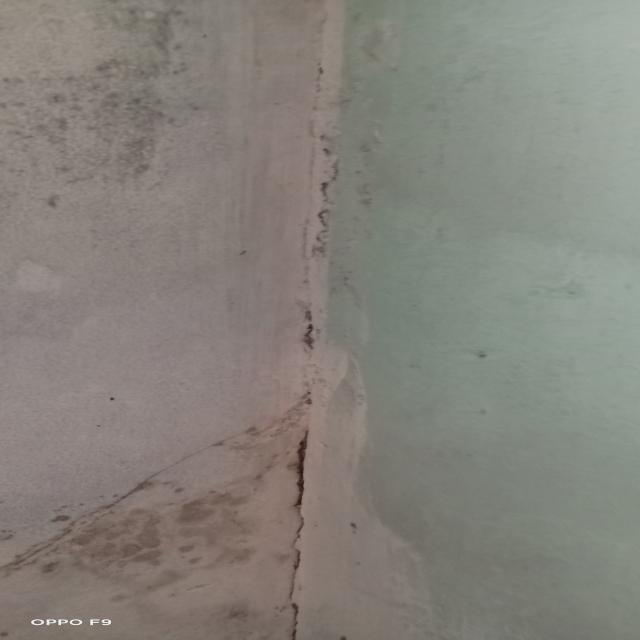Crack: (255, 130, 380, 364), (257, 435, 378, 640), (25, 445, 182, 539)
